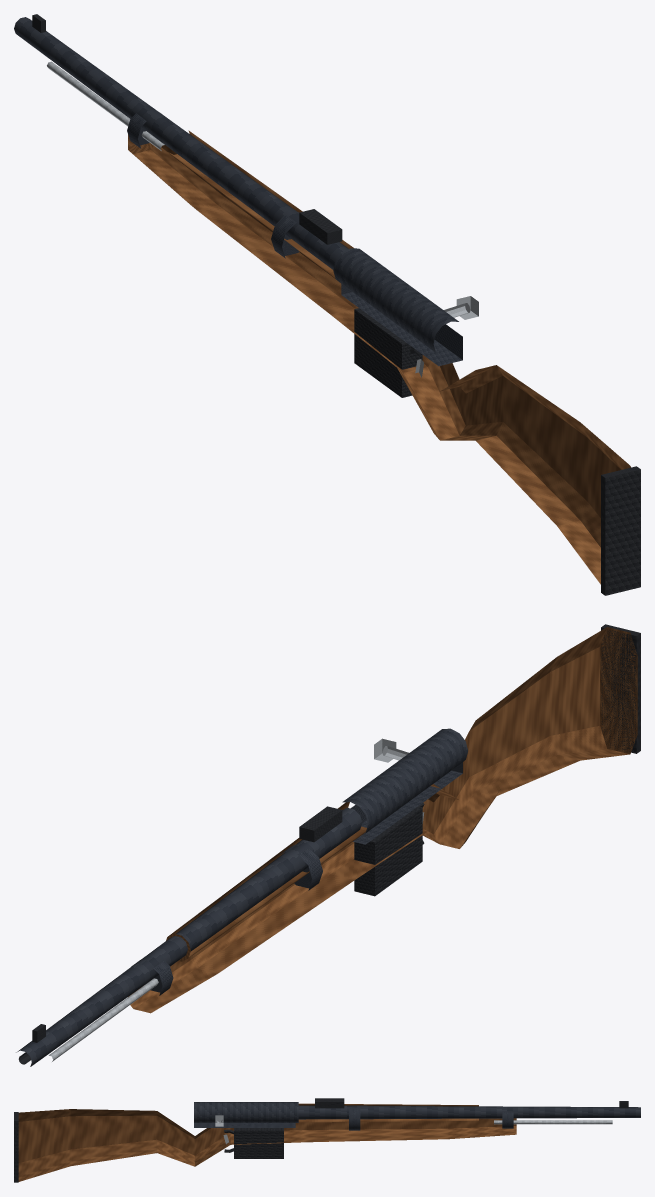
File: mannlicher_m95.glb
3 views of the same model, one above another, from view 1: azimuth 30°, elevation 25°; view 2: azimuth 150°, elevation 25°; view 3: azimuth 270°, elevation 25° (orthographic). The views are drawn at different scales.
Parts seen in each view (by area): view 1: WeaponMesh; view 2: WeaponMesh; view 3: WeaponMesh.
Part boxes in pixels (<box>): WeaponMesh: <box>14,14,640,595</box>; WeaponMesh: <box>16,624,640,1066</box>; WeaponMesh: <box>14,1098,640,1182</box>.
Bounding box in the file's own units: 0.0735 × 0.154 × 1.11.
4 materials, 4 textured.
